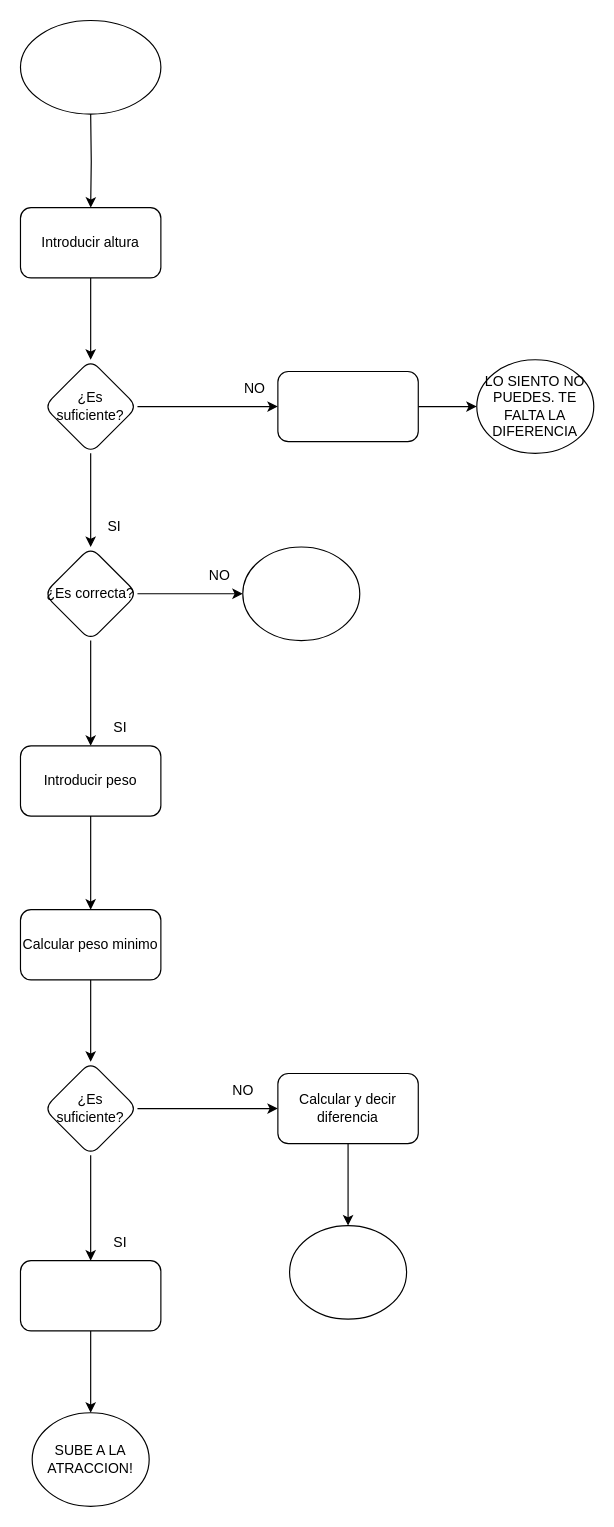
Some shapes in this 614 by 1527 pixel diagram are drawn without their labels. Each missing label, with the box of its shape:
Calcular diferencia: (277, 370, 418, 442)
Decir peso y peso minimo: (19, 1260, 161, 1331)
ERROR DE LECTURA. BAJA Y SUBE.: (242, 546, 360, 641)
LO SIENTO NO PUEDES: (288, 1224, 407, 1319)
Quiero subir a la atracción: (19, 19, 161, 114)
